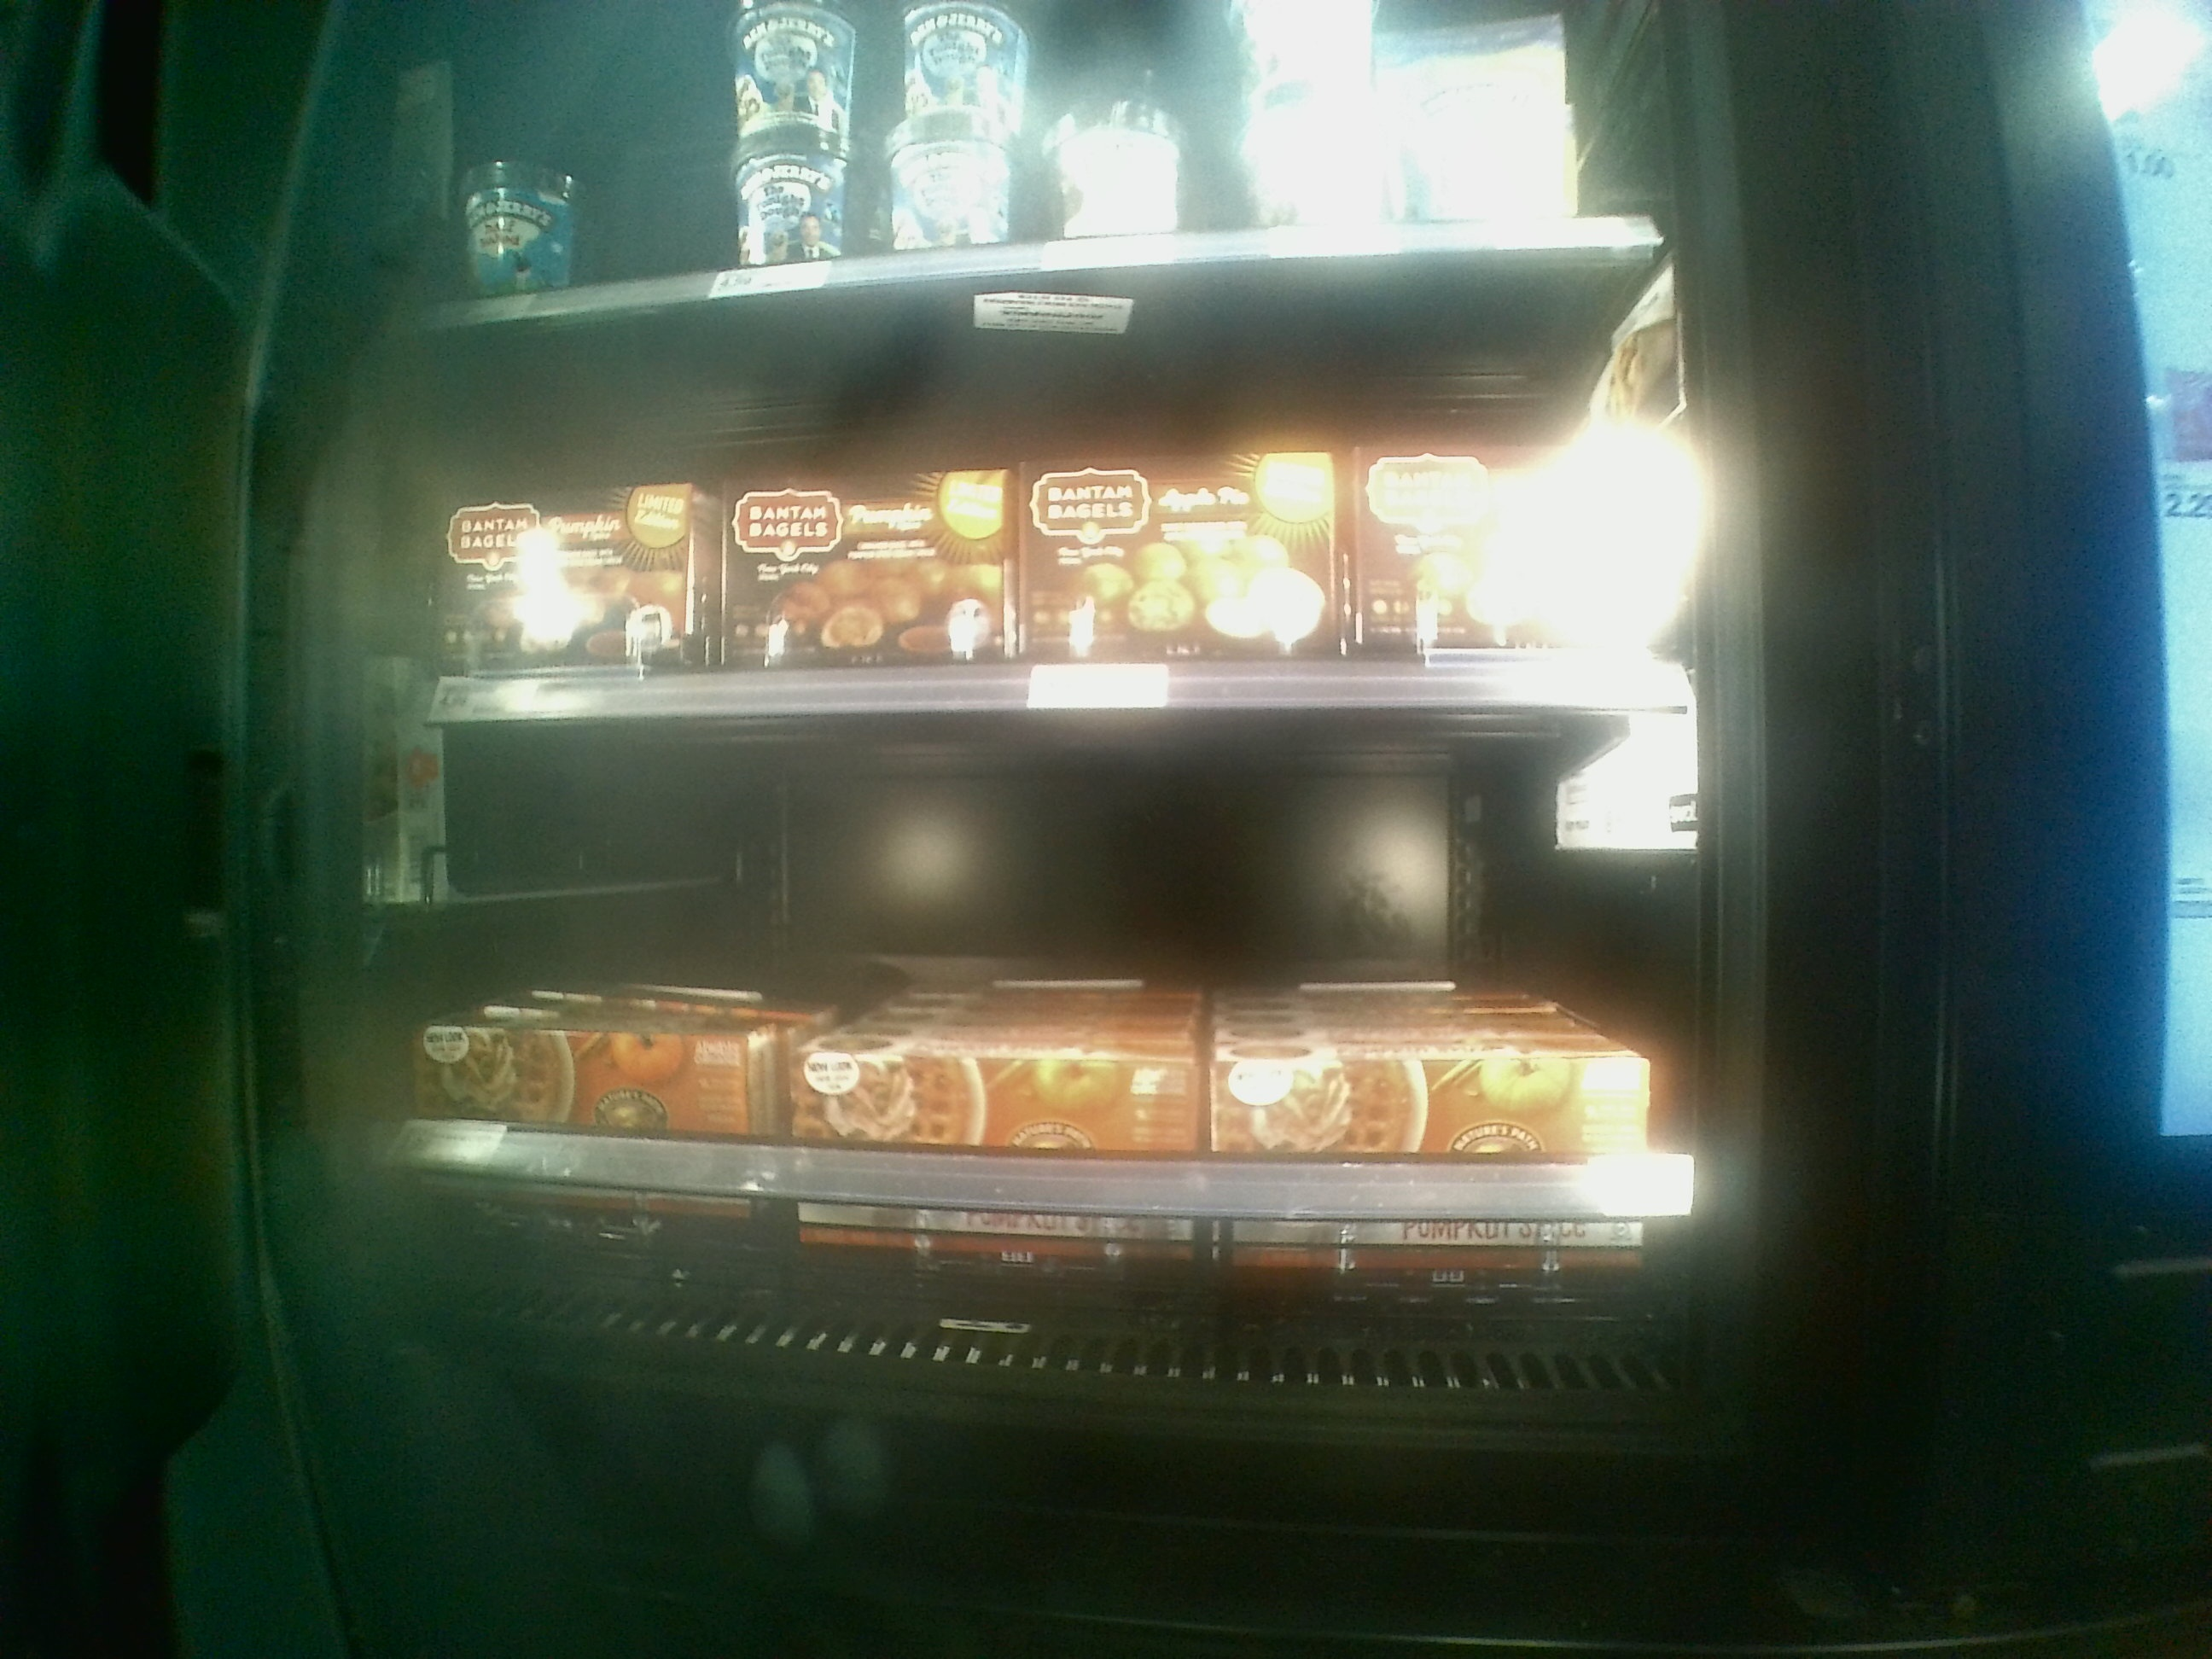shelf: (420, 699, 1698, 1192), (425, 310, 1705, 695)
